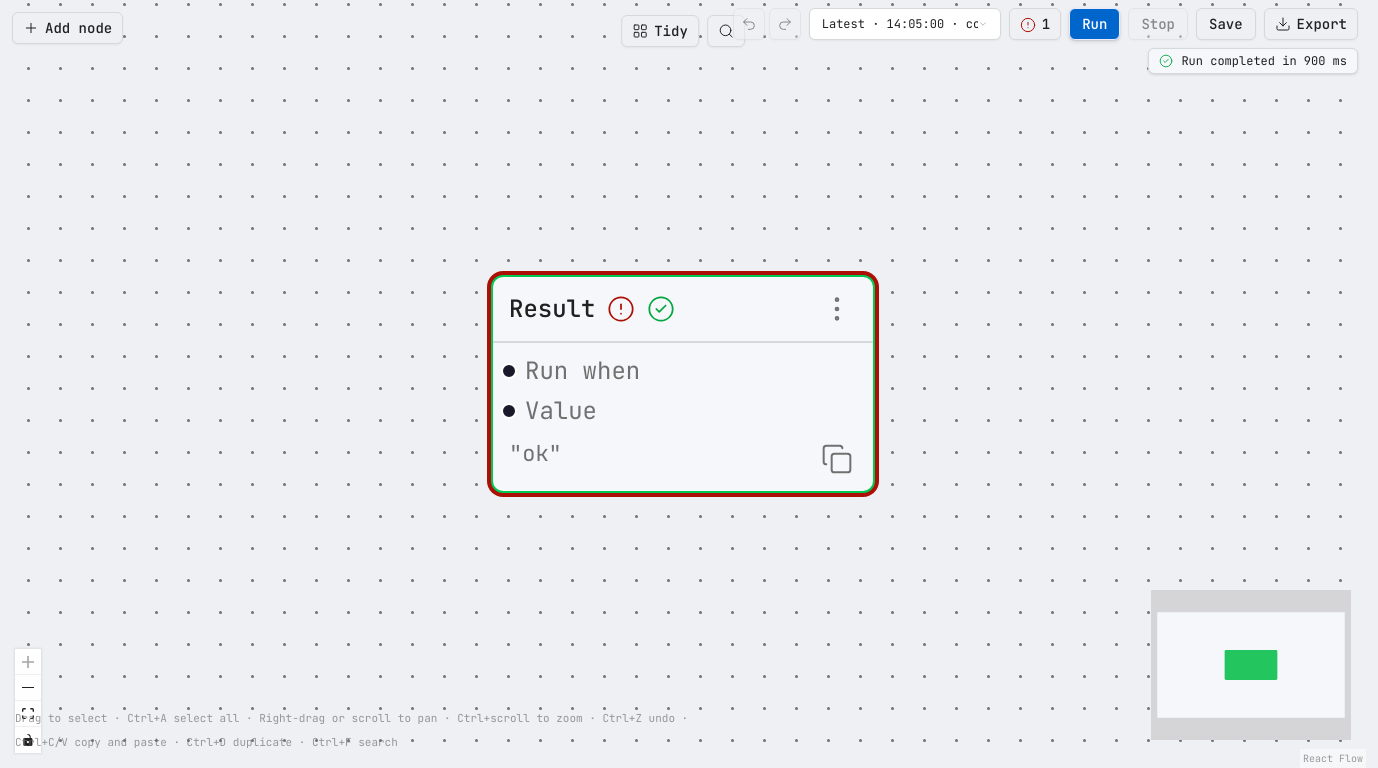
Test: FlowPane run history › lists the runs and shows the latest one live
The width and height of the screenshot is (1378, 768).
Click the dropdown named "Run history".
click(905, 24)  # box left=809, top=8, right=1001, bottom=40
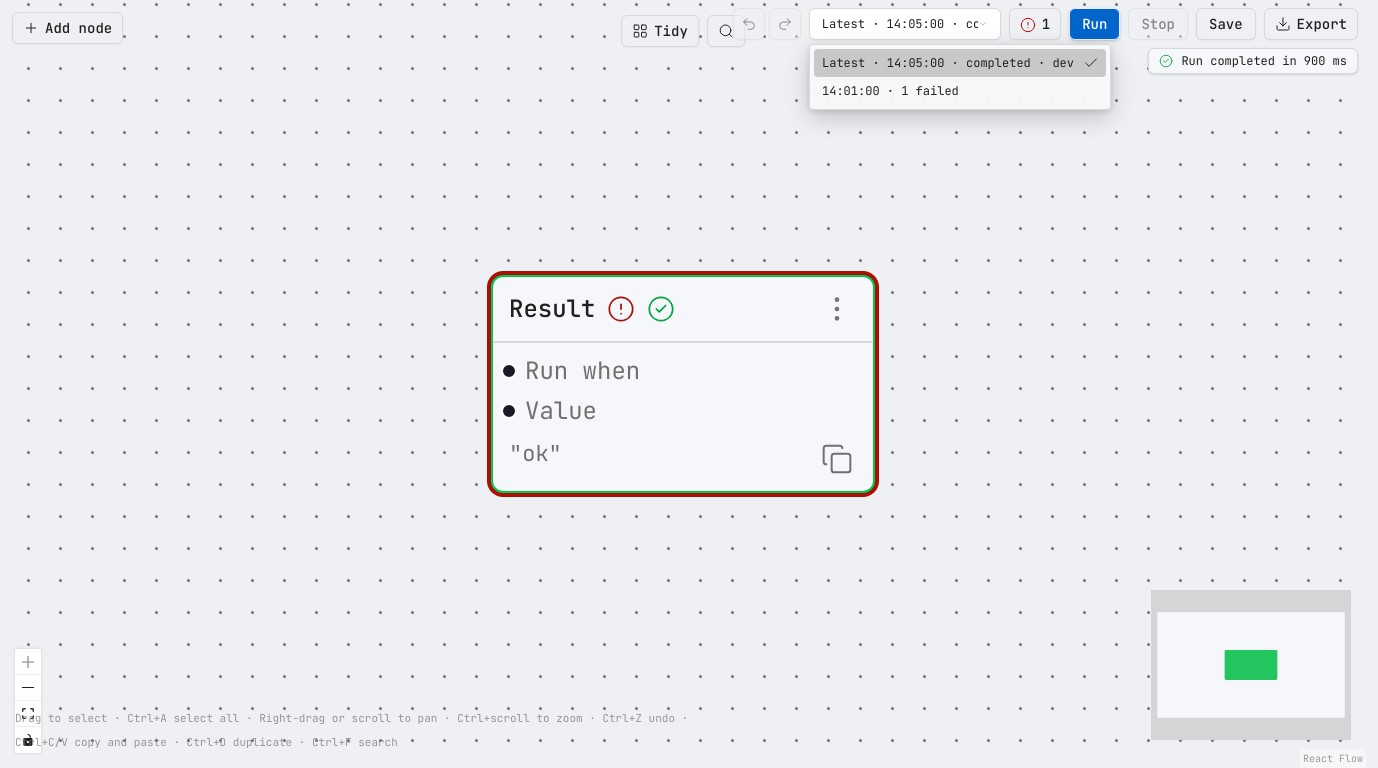
Now the option "Latest · 14:05:00 · completed · dev" is shown, box left=814, top=49, right=1106, bottom=77
Now the option "14:01:00 · 1 failed" is shown, box left=822, top=83, right=959, bottom=99
